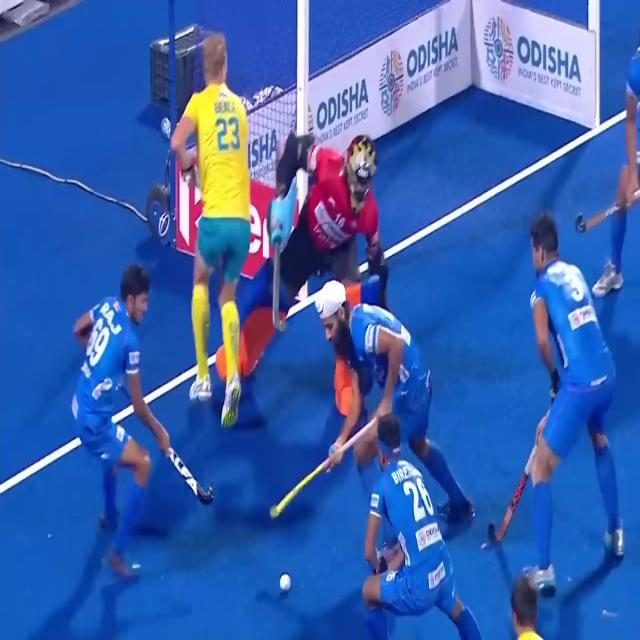ball: (272, 556, 297, 602)
